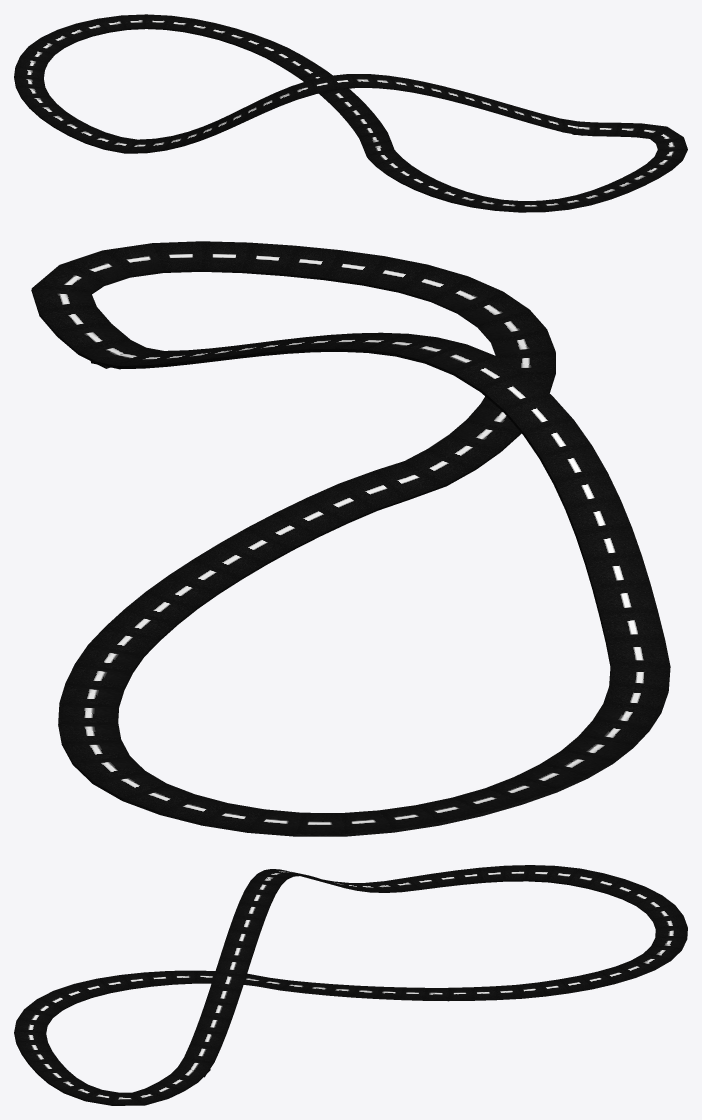
The model's file is track1.obj.
3 renders of one model, top to bottom at view 1: azimuth 30°, elevation 25°; view 2: azimuth 150°, elevation 25°; view 3: azimuth 270°, elevation 25°, orthographic. The views are drawn at different scales.
Visible parts, largest first — view 1: Cube; view 2: Cube; view 3: Cube.
Part boxes in pixels (x1,y1,x2,y2): Cube: (14, 14, 687, 212); Cube: (31, 241, 670, 836); Cube: (14, 865, 687, 1105).
Bounding box in the file's own units: 194 × 30.77 × 229.
1 material, 1 textured.
